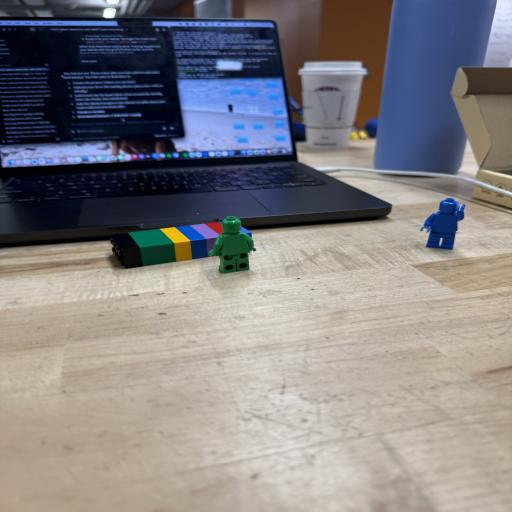blue-minifig: (420, 198, 465, 249)
green-minifig: (208, 216, 256, 273)
